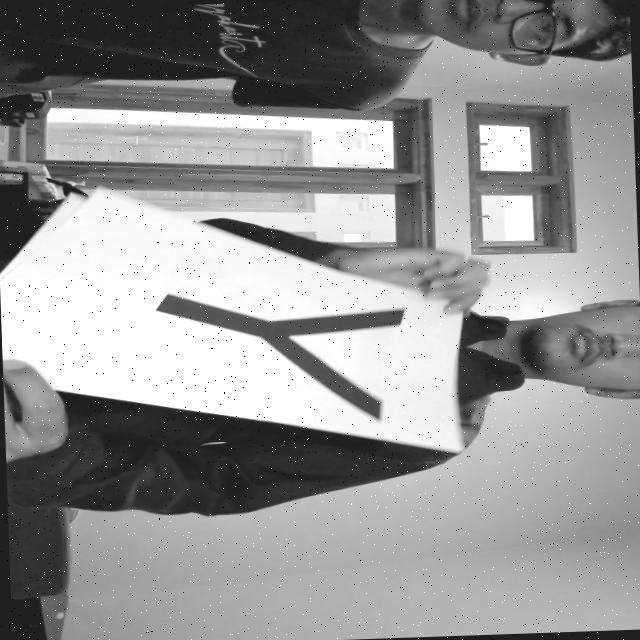y: (136, 278, 421, 440)
